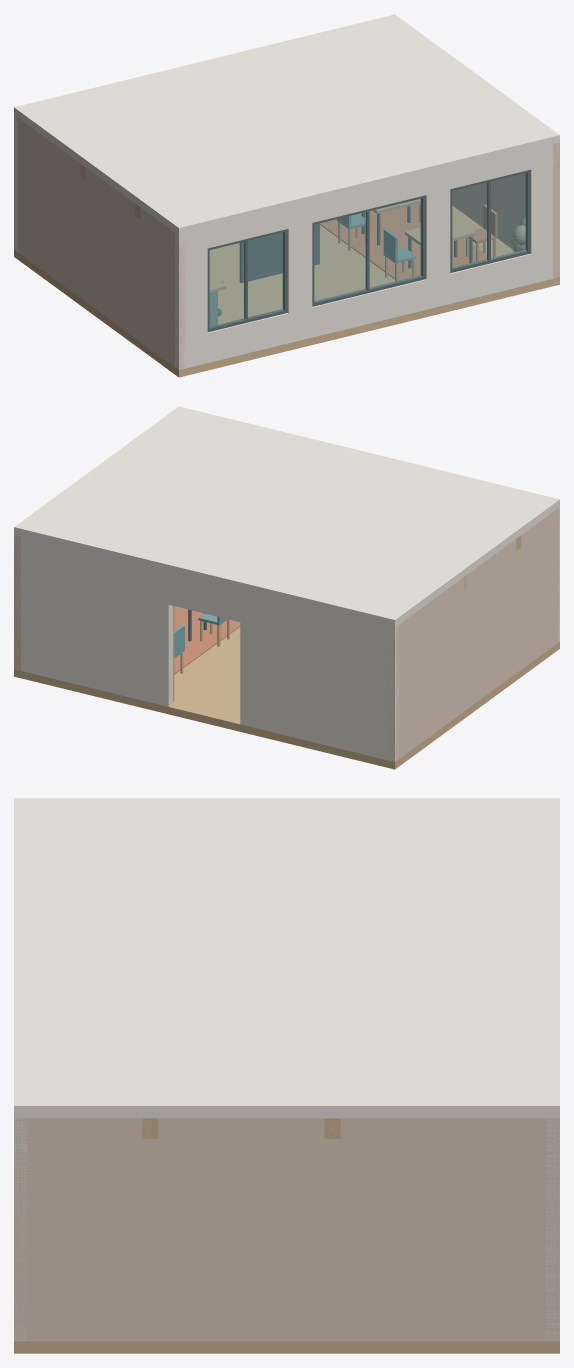
The model's file is cafe.gltf.
3 renders of one model, top to bottom at view 1: azimuth 30°, elevation 25°; view 2: azimuth 150°, elevation 25°; view 3: azimuth 270°, elevation 25°, orthographic. The views are drawn at different scales.
Parts seen in each view (by area): view 1: ceiling, wall_w, wall_n_sill, floor, window_1_glass, wall_n_header, window_2_glass, window_0_glass, wall_e, decor_rug_e, wall_n_pillar_0, wall_n_pillar_2 (+9 smaller); view 2: ceiling, wall_w, wall_s_a, wall_s_b, floor, wall_s_header, decor_rug_e, wall_e; view 3: ceiling, wall_e, floor, wall_s_b, wall_n_pillar_3.
Boxes of the visible parts, box(x1,y1,x2,y2) form: ceiling: box(14, 14, 559, 235); wall_w: box(18, 118, 185, 369); wall_n_sill: box(175, 249, 552, 369); floor: box(14, 204, 559, 377); window_1_glass: box(314, 199, 422, 302); wall_n_header: box(175, 144, 558, 254); window_2_glass: box(452, 173, 526, 268); window_0_glass: box(210, 232, 284, 327); wall_e: box(452, 142, 559, 278); decor_rug_e: box(320, 204, 486, 280); wall_n_pillar_0: box(175, 248, 207, 339); wall_n_pillar_2: box(425, 189, 450, 279); ceiling: box(14, 406, 559, 627); wall_w: box(388, 507, 559, 761); wall_s_a: box(240, 590, 398, 761); wall_s_b: box(14, 535, 172, 706); floor: box(14, 627, 559, 769); wall_s_header: box(168, 572, 240, 621); decor_rug_e: box(174, 606, 240, 674); wall_e: box(14, 534, 20, 670); ceiling: box(14, 798, 559, 1118); wall_e: box(14, 1118, 559, 1341); floor: box(14, 1341, 559, 1353); wall_s_b: box(546, 1118, 559, 1341); wall_n_pillar_3: box(14, 1151, 27, 1290).
Size of the model in its own units: 8 by 3 by 6.
